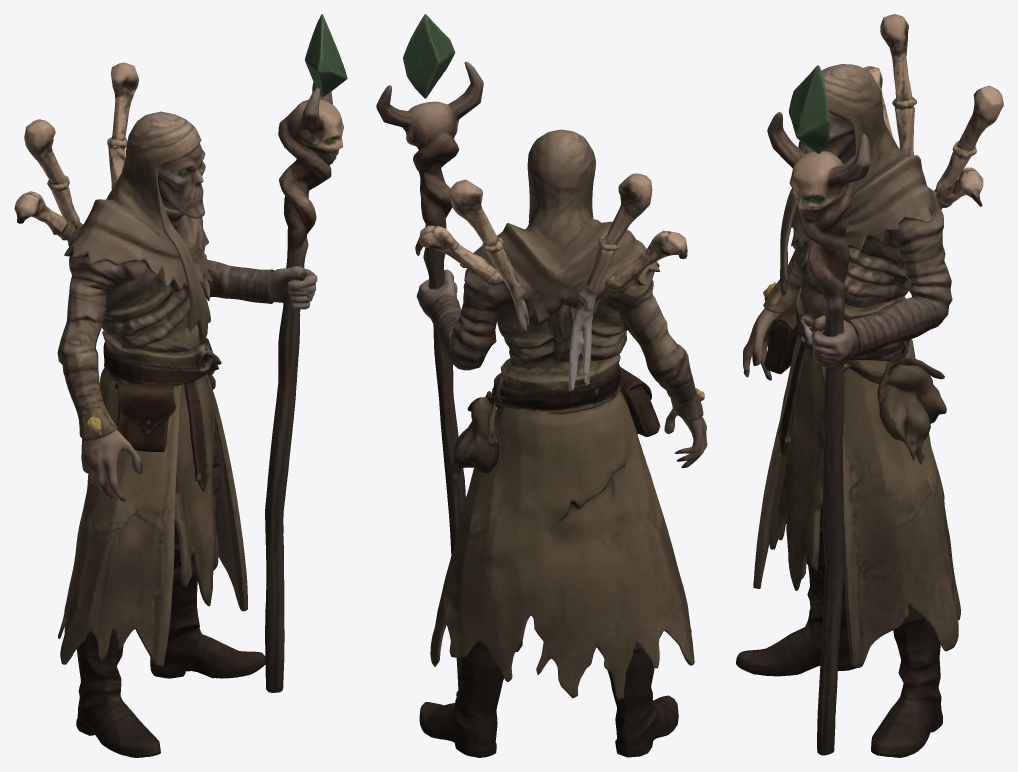
The model's file is nigromante_raw.glb.
The picture shows the model from 3 angles, left to right: view 1: azimuth 30°, elevation 25°; view 2: azimuth 150°, elevation 25°; view 3: azimuth 270°, elevation 25°; orthographic projection. The views are drawn at different scales.
Parts seen in each view (by area): view 1: world; view 2: world; view 3: world.
Boxes of the visible parts, x1,y1,x2,y2 form: world: [14, 14, 347, 757]; world: [376, 14, 707, 757]; world: [736, 14, 1003, 757].
Bounding box in the file's own units: 0.4849 × 1 × 0.3418.
1 material, 1 textured.
